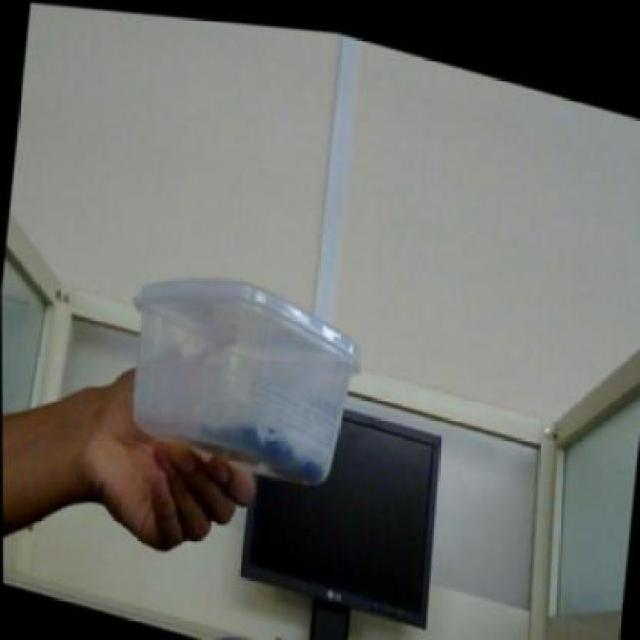Plastic: (127, 271, 360, 488)
